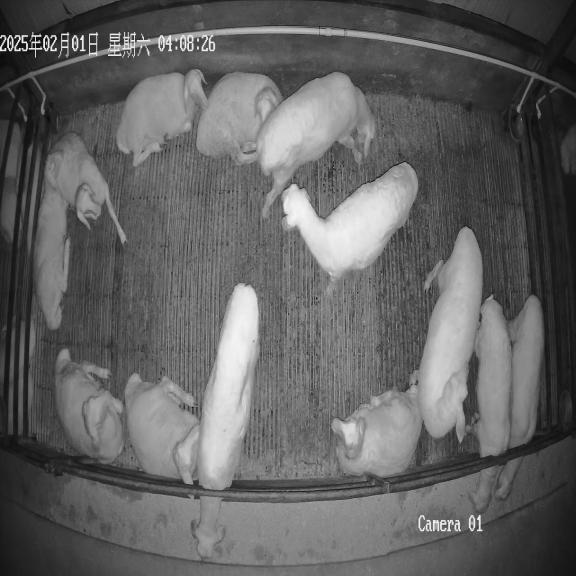eating: (191, 283, 259, 558), (493, 294, 544, 500), (468, 295, 512, 513)
lying: (116, 69, 207, 167), (331, 384, 422, 478), (124, 373, 199, 484), (196, 72, 283, 166), (54, 348, 124, 463), (53, 133, 126, 242), (33, 152, 70, 330)
stand: (282, 162, 418, 293), (255, 72, 376, 218), (415, 227, 483, 443)
